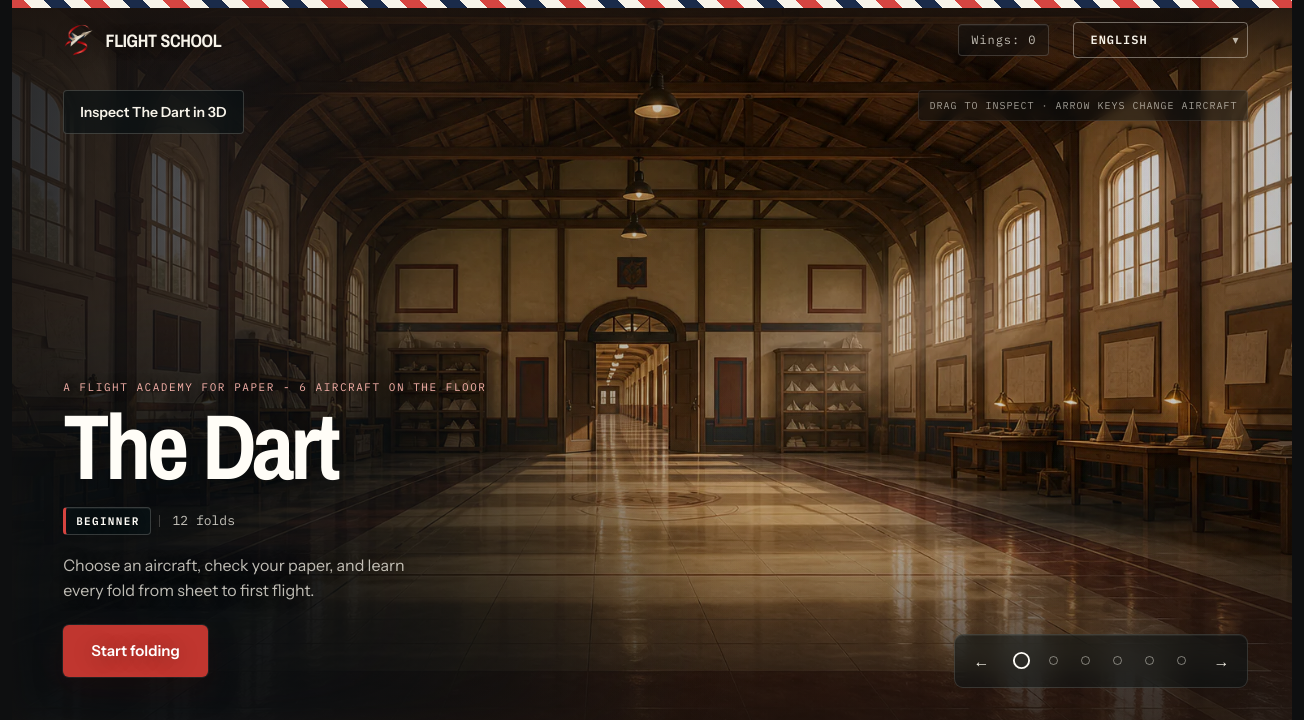
Test: the Hangar bay › changes aircraft from the arrows, the dots and the keyboard alike
Click the button with test id "hangar-next" at (1222, 661), box [1200,640,1242,682]
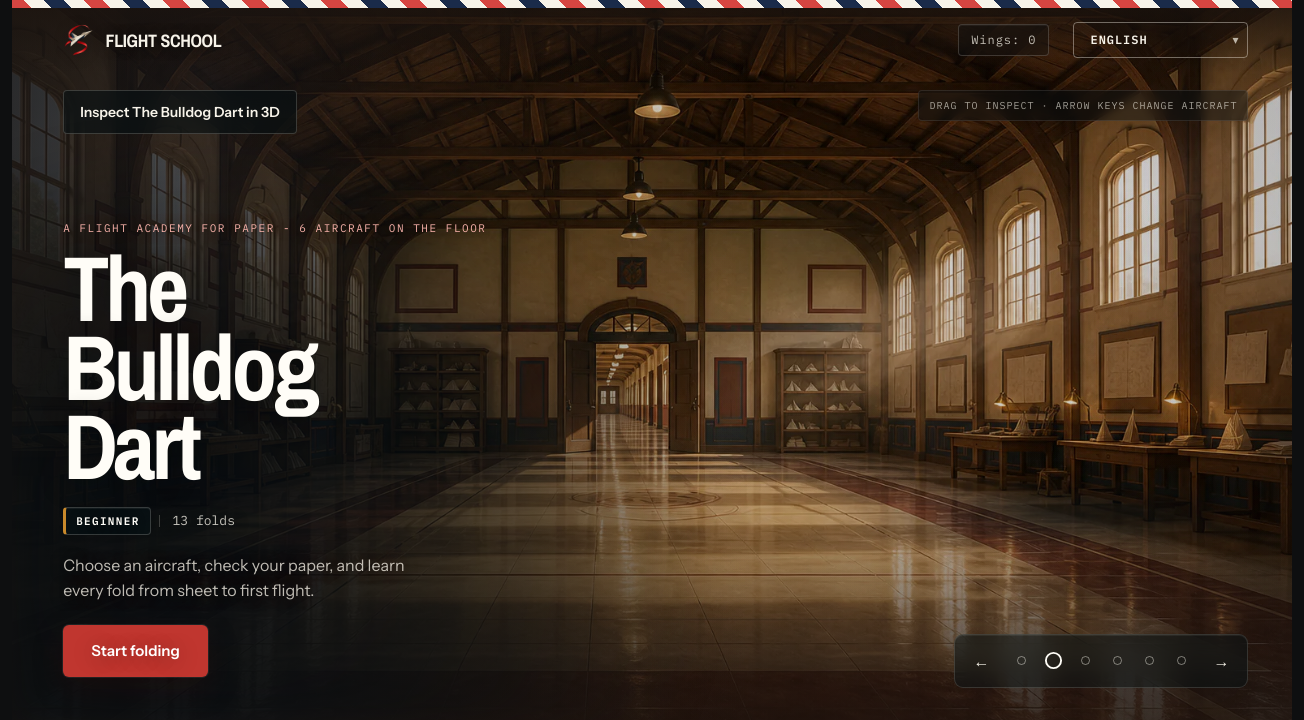
Result: the heading reads "The Bulldog Dart" at [63,226,315,508]
Click the button with test id "hangar-prev" at (982, 661), box [960,640,1002,682]
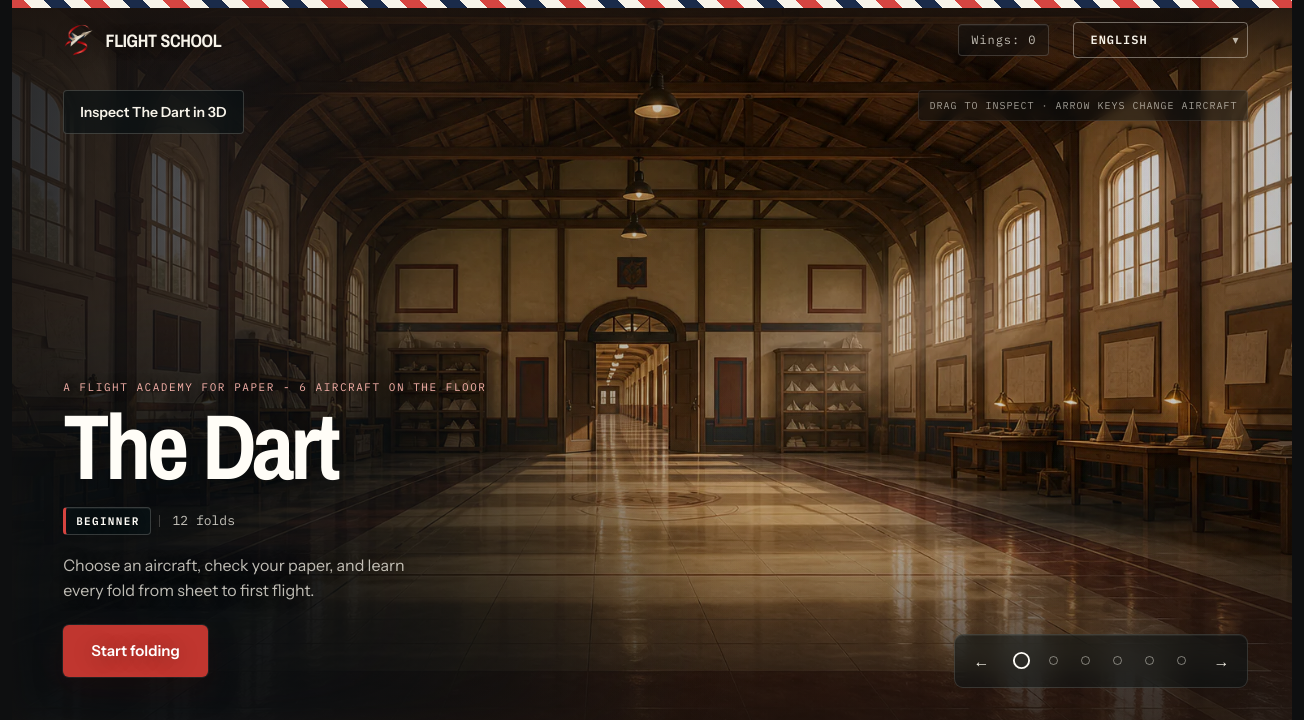
Result: the heading reads "The Dart" at [63,384,336,508]
Click the button named "The Sea Glider" at (1118, 661), box [1102,640,1134,682]
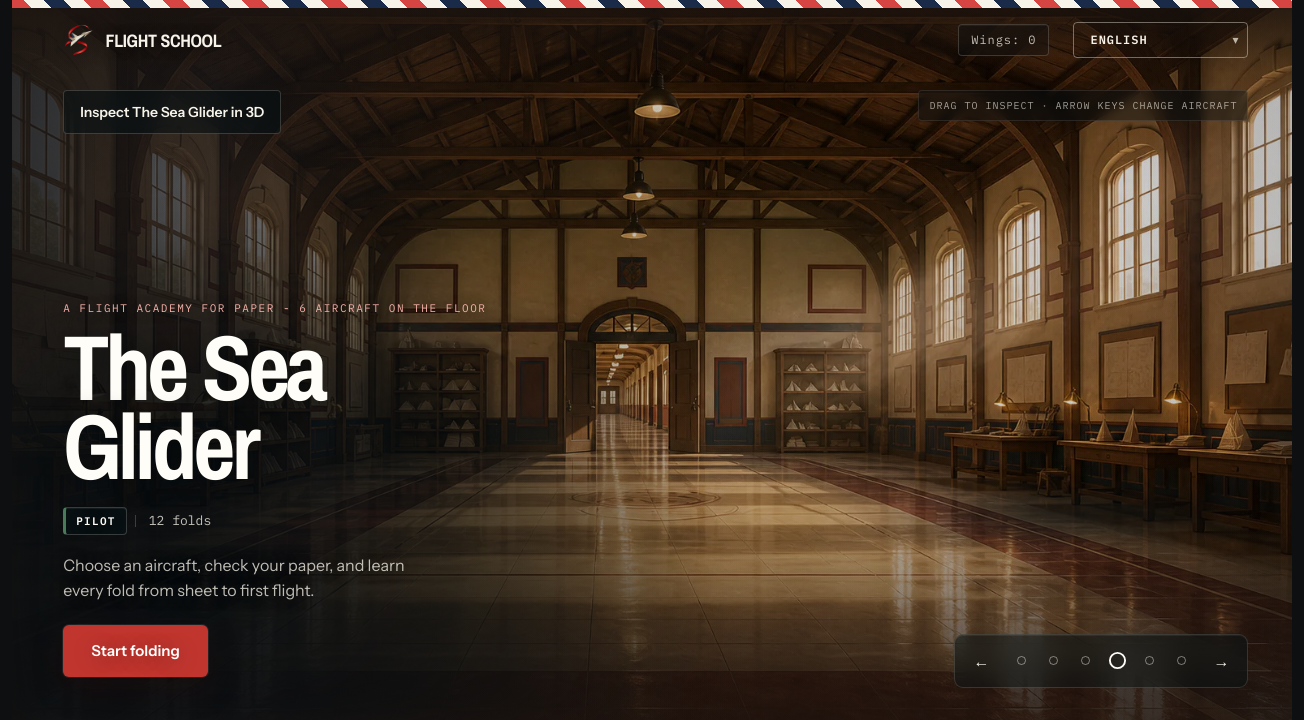
Result: the heading reads "The Sea Glider" at [63,305,324,508]
Press ArrowRight
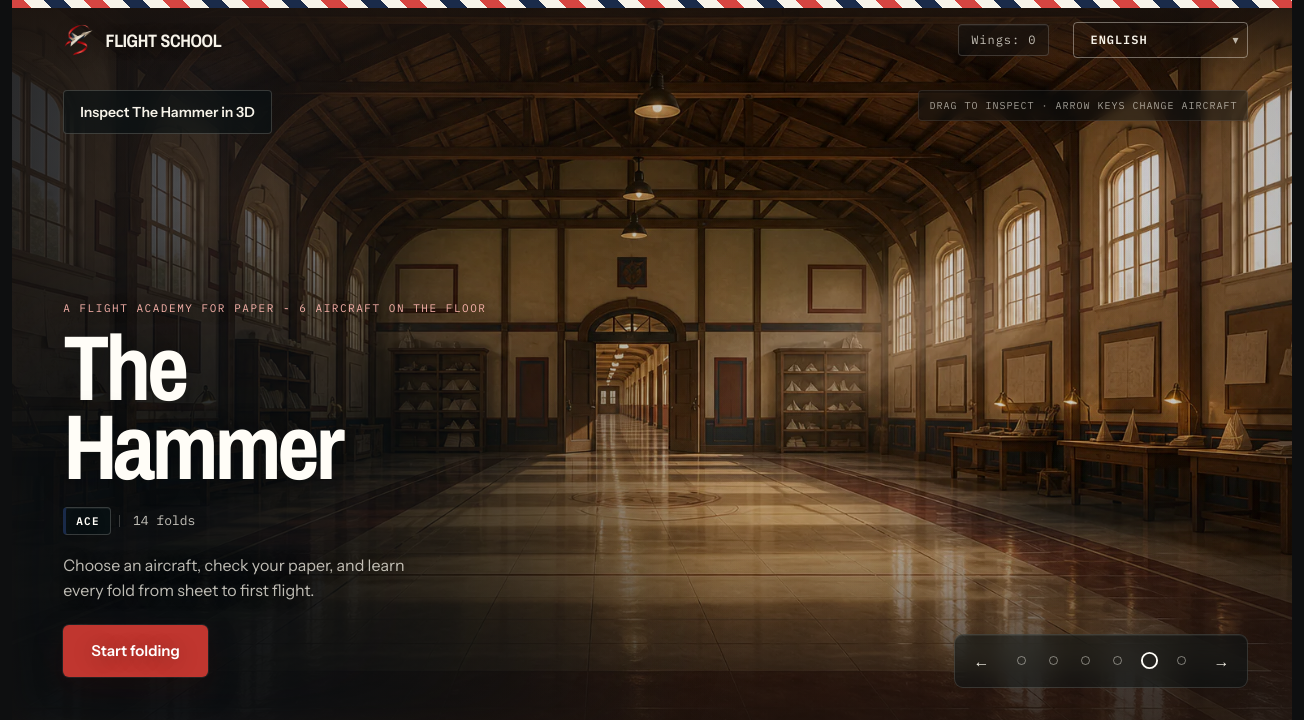
Result: the heading reads "The Hammer" at [63,305,341,508]
Press ArrowLeft
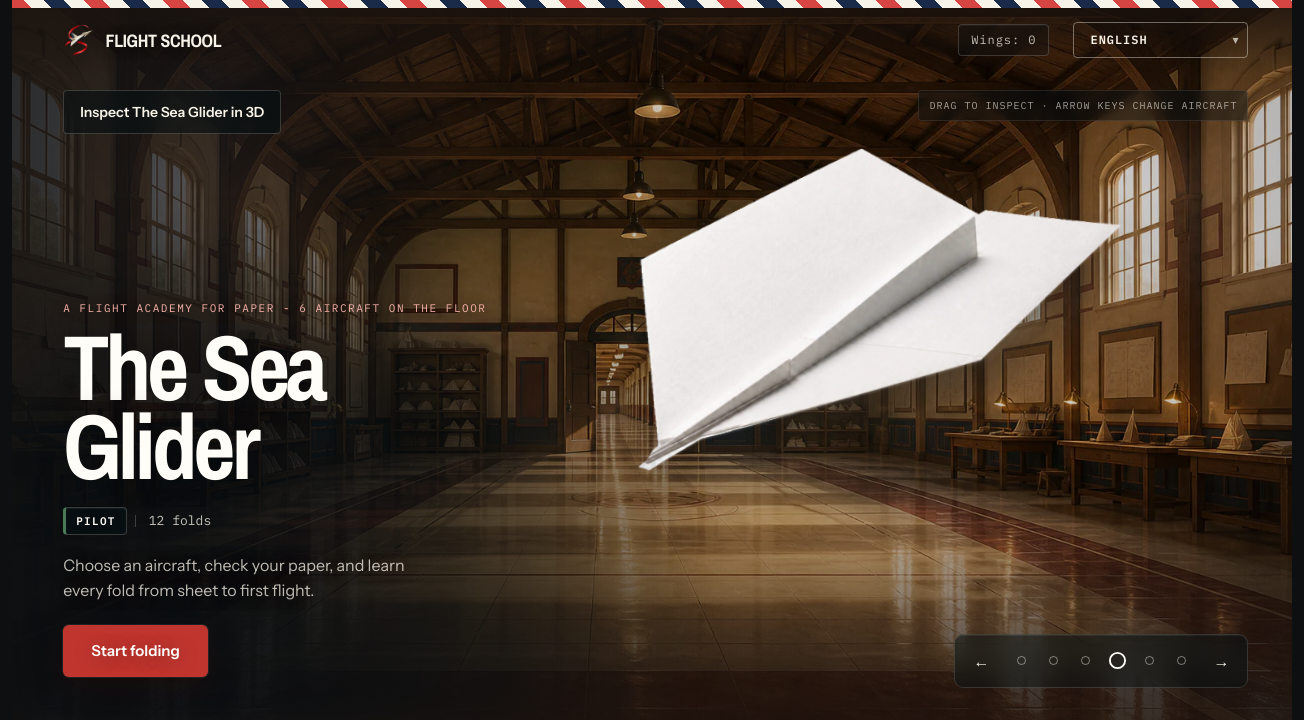
Result: the heading reads "The Sea Glider" at [63,305,324,508]
